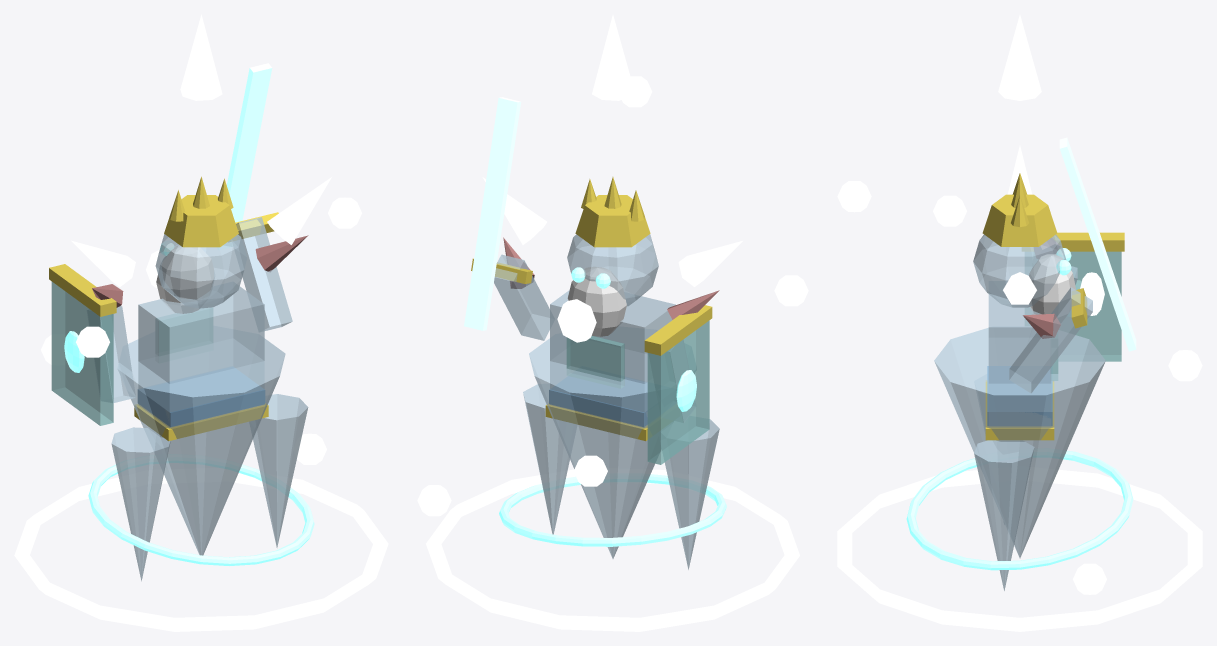
The model's file is evolved_royal_ghost.glb.
The picture shows the model from 3 angles, left to right: view 1: azimuth 30°, elevation 25°; view 2: azimuth 150°, elevation 25°; view 3: azimuth 270°, elevation 25°; orthographic projection.
Visible parts, largest first — view 1: evolved_royal_ghost; view 2: evolved_royal_ghost; view 3: evolved_royal_ghost.
Boxes of the visible parts, x1,y1,x2,y2 form: evolved_royal_ghost: [14, 14, 388, 631]; evolved_royal_ghost: [417, 15, 808, 631]; evolved_royal_ghost: [837, 15, 1202, 631].
Bounding box in the file's own units: 2.64 × 4.23 × 2.57.
